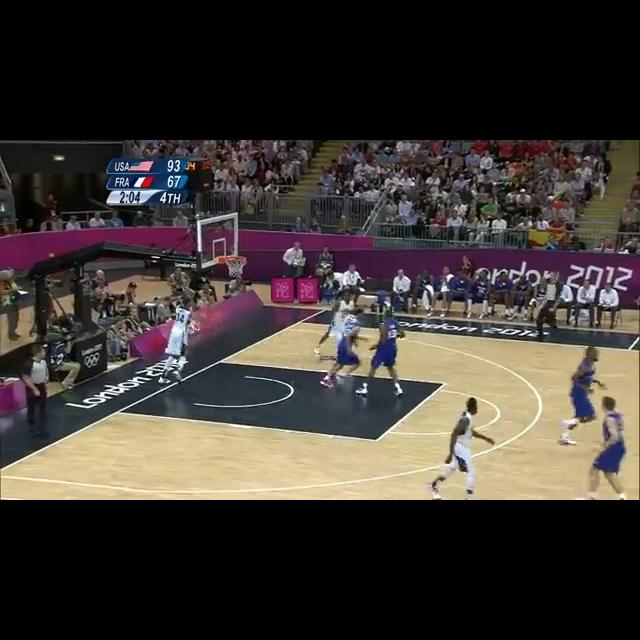hoop: (221, 256, 248, 276)
person: (323, 326, 362, 388), (340, 264, 365, 311), (597, 282, 622, 328), (282, 241, 306, 278), (391, 268, 410, 313), (105, 211, 124, 227), (88, 212, 106, 228), (172, 210, 188, 227), (65, 215, 81, 230)
